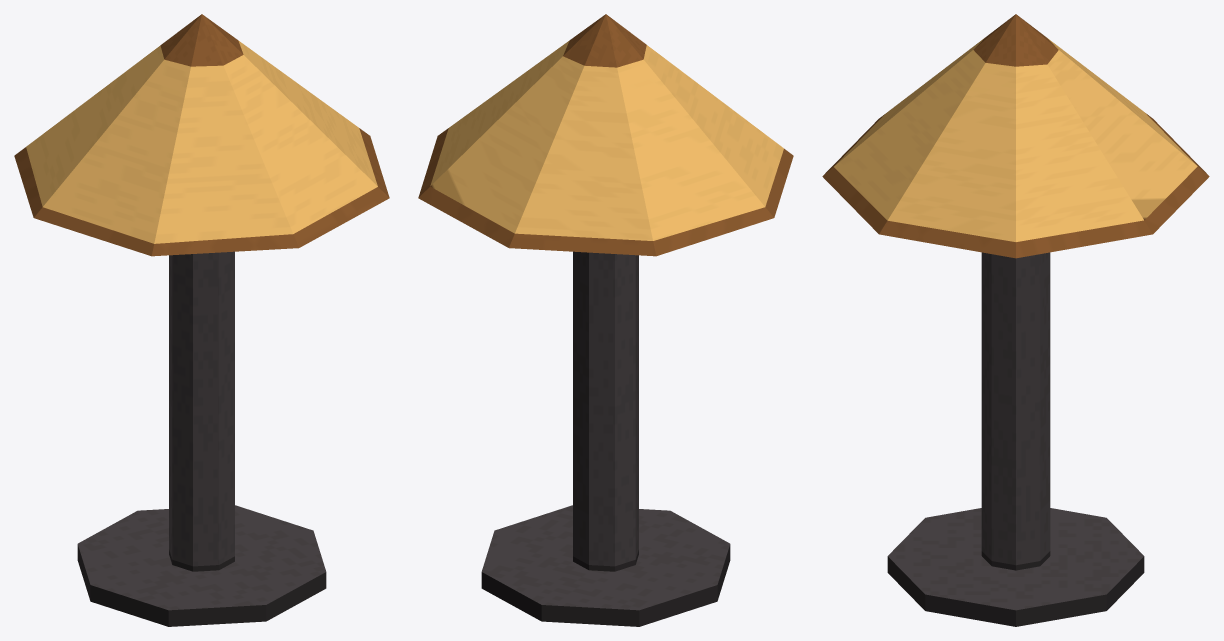
Rendered from Lamp.fbx.
3 views of the same model, side by side, from view 1: azimuth 30°, elevation 25°; view 2: azimuth 150°, elevation 25°; view 3: azimuth 270°, elevation 25° (orthographic).
Parts seen in each view (by area): view 1: pCone1, pCylinder2, pCylinder1; view 2: pCone1, pCylinder2, pCylinder1; view 3: pCone1, pCylinder2, pCylinder1.
Part boxes in pixels (left/top/right/bottom): pCone1: left=14, top=14, right=389, bottom=256; pCylinder2: left=169, top=251, right=234, bottom=571; pCylinder1: left=77, top=505, right=326, bottom=626; pCone1: left=418, top=14, right=793, bottom=256; pCylinder2: left=573, top=251, right=638, bottom=571; pCylinder1: left=481, top=505, right=730, bottom=626; pCone1: left=822, top=14, right=1209, bottom=258; pCylinder2: left=981, top=252, right=1050, bottom=570; pCylinder1: left=887, top=508, right=1144, bottom=626.
Size of the model in its own units: 142 by 225 by 142.
